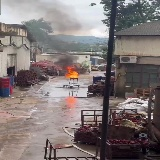fire: (65, 67, 78, 78)
